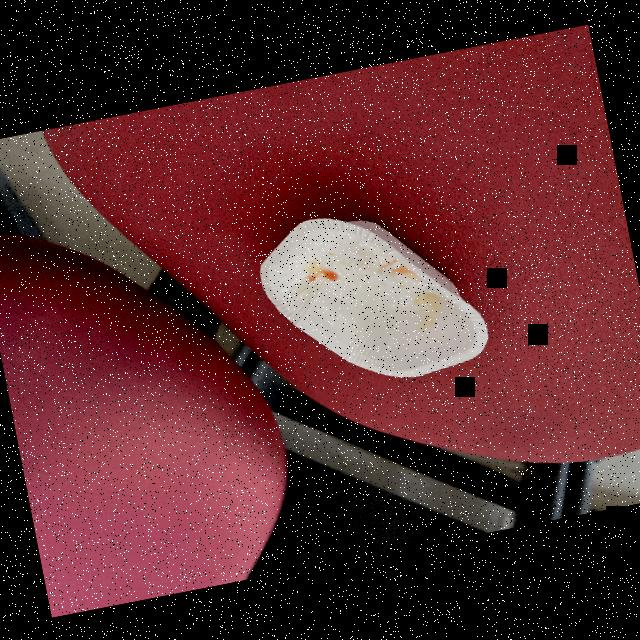cardboard_bowl: (244, 164, 506, 443)
